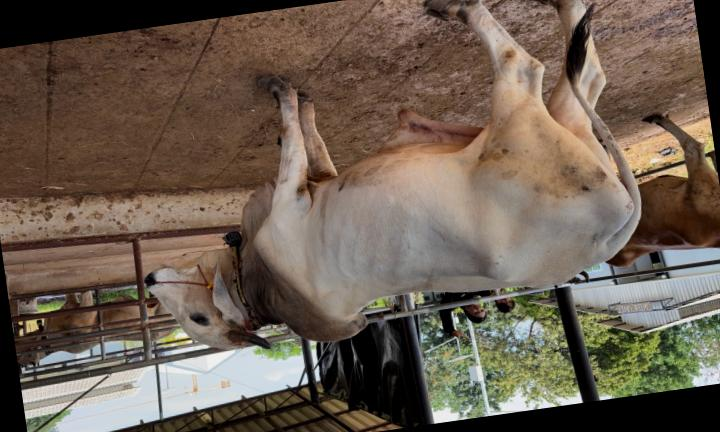Brahman: (146, 0, 641, 349)
